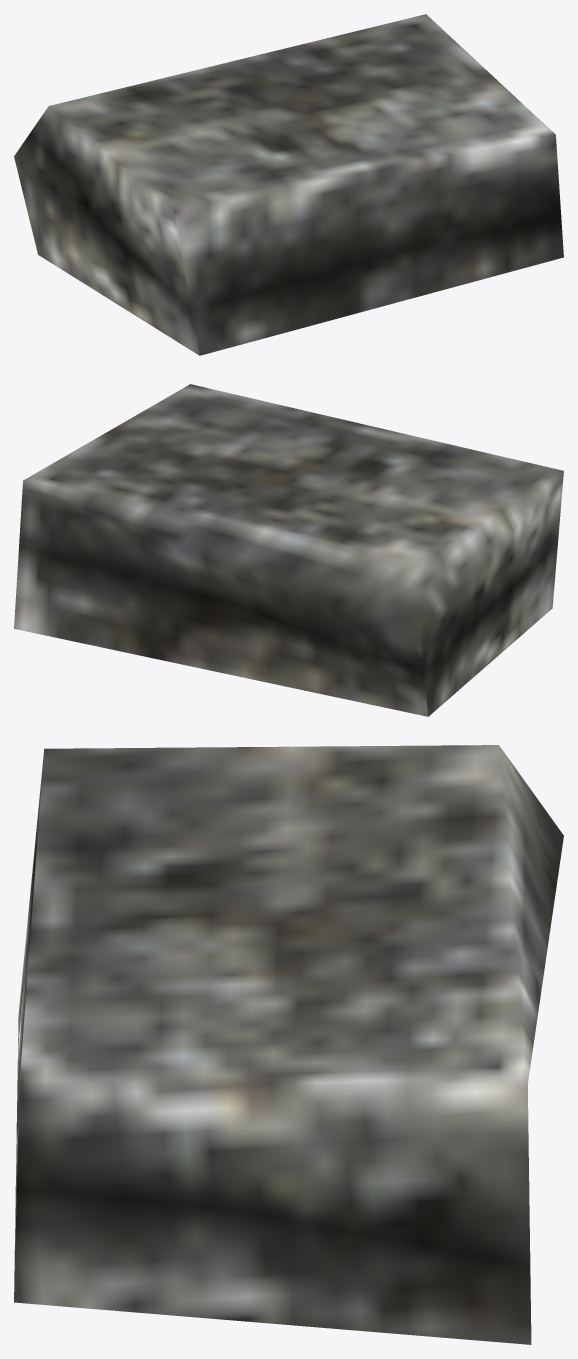
Rendered from Brick2D.fbx.
3 views of the same model, one above another, from view 1: azimuth 30°, elevation 25°; view 2: azimuth 150°, elevation 25°; view 3: azimuth 270°, elevation 25° (orthographic). The views are drawn at different scales.
Visible parts, largest first — view 1: polySurface21; view 2: polySurface21; view 3: polySurface21.
Part boxes in pixels (bbox=[...]): polySurface21: bbox=[14, 14, 563, 355]; polySurface21: bbox=[14, 384, 563, 716]; polySurface21: bbox=[14, 745, 563, 1344].
Bounding box in the file's own units: 0.9592 × 0.3477 × 0.6461.
